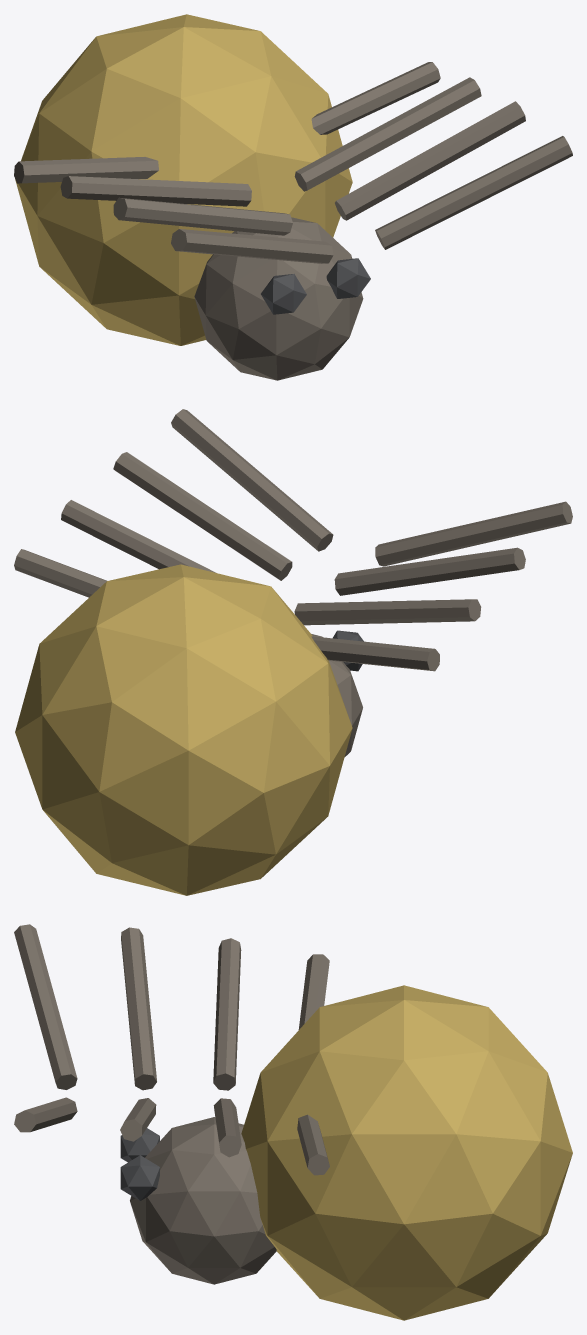
The model's file is nephila-pilipes.glb.
3 views of the same model, one above another, from view 1: azimuth 30°, elevation 25°; view 2: azimuth 150°, elevation 25°; view 3: azimuth 270°, elevation 25° (orthographic).
Parts seen in each view (by area): view 1: abdomen, cephalothorax, leg01, leg11, leg21, leg2-1, leg1-1, leg0-1, leg31, leg3-1, eye-1, eye1; view 2: abdomen, leg11, leg0-1, leg01, leg1-1, leg2-1, leg21, leg3-1, leg31, cephalothorax; view 3: abdomen, cephalothorax, leg0-1, leg1-1, leg2-1, leg3-1, leg01, eye1, leg31, leg21, leg11, eye-1.
Boxes of the visible parts, left/top/right/bottom form: abdomen: left=15, top=14, right=352, bottom=345; cephalothorax: left=194, top=217, right=363, bottom=380; leg01: left=375, top=136, right=572, bottom=249; leg11: left=335, top=101, right=525, bottom=220; leg21: left=294, top=77, right=481, bottom=191; leg2-1: left=60, top=176, right=251, bottom=206; leg1-1: left=113, top=197, right=292, bottom=235; leg0-1: left=171, top=229, right=333, bottom=263; leg31: left=311, top=62, right=440, bottom=134; leg3-1: left=14, top=157, right=158, bottom=183; eye-1: left=261, top=274, right=306, bottom=314; eye1: left=326, top=258, right=370, bottom=298; abdomen: left=15, top=564, right=352, bottom=895; leg11: left=113, top=452, right=292, bottom=580; leg0-1: left=375, top=501, right=572, bottom=566; leg01: left=171, top=409, right=333, bottom=551; leg1-1: left=334, top=547, right=525, bottom=595; leg2-1: left=294, top=599, right=481, bottom=625; leg21: left=61, top=500, right=215, bottom=572; leg3-1: left=311, top=636, right=439, bottom=671; leg31: left=14, top=549, right=106, bottom=597; cephalothorax: left=311, top=634, right=362, bottom=756; abdomen: left=241, top=985, right=572, bottom=1320; cephalothorax: left=130, top=1117, right=276, bottom=1284; leg0-1: left=14, top=924, right=77, bottom=1089; leg1-1: left=121, top=927, right=156, bottom=1090; leg2-1: left=213, top=938, right=241, bottom=1090; leg3-1: left=298, top=954, right=329, bottom=1029; leg01: left=14, top=1097, right=77, bottom=1132; eye1: left=120, top=1155, right=159, bottom=1200; leg31: left=297, top=1114, right=329, bottom=1175; leg21: left=213, top=1098, right=241, bottom=1157; leg11: left=120, top=1098, right=156, bottom=1141; eye-1: left=120, top=1128, right=159, bottom=1162.
Bounding box in the file's own units: 0.4572 × 0.32 × 0.5297.
